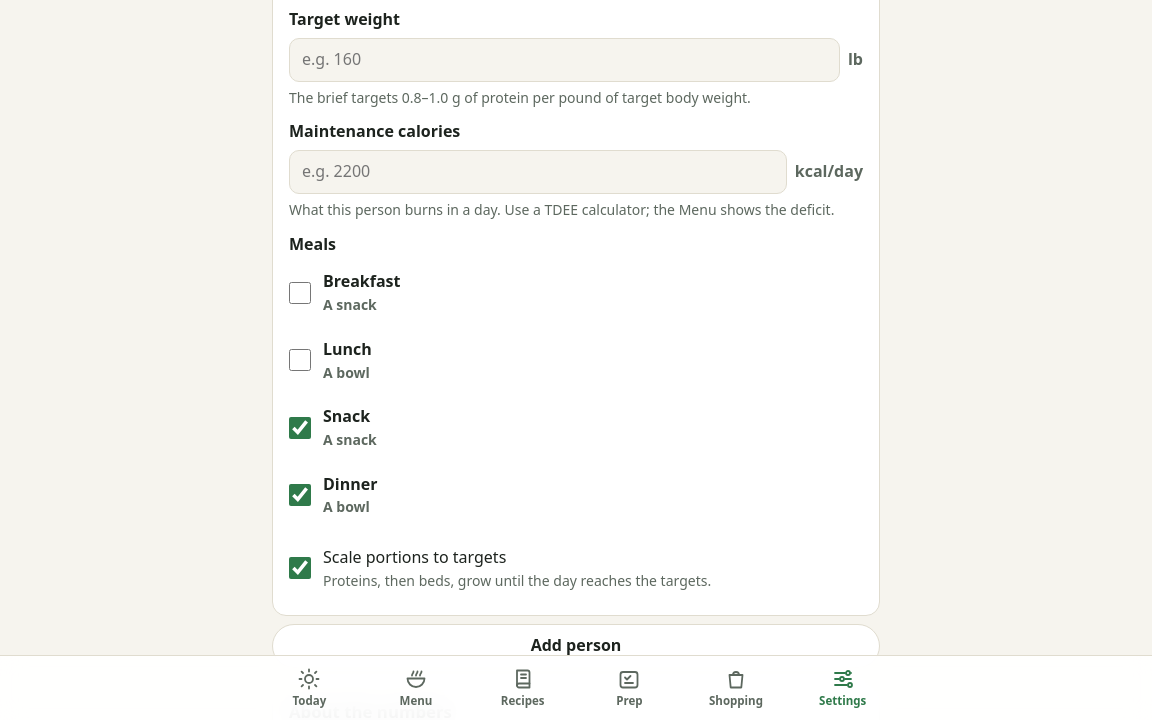
it: Settings › chooses which meals you eat, keeping at least one
This screenshot has width=1152, height=720.
(page scrolled)
Click the checkbox labelled "Lunch A bowl": [300, 360] box [289,349,311,371]
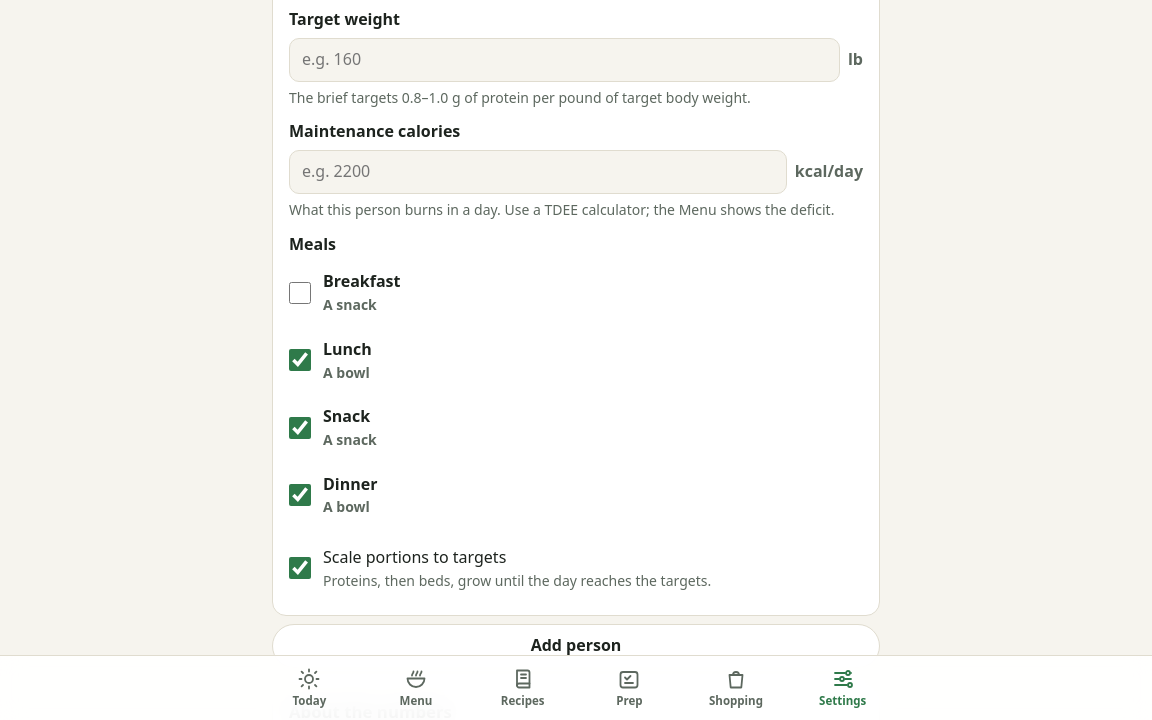
Click the checkbox labelled "Snack A snack": [300, 428] box [289,417,311,439]
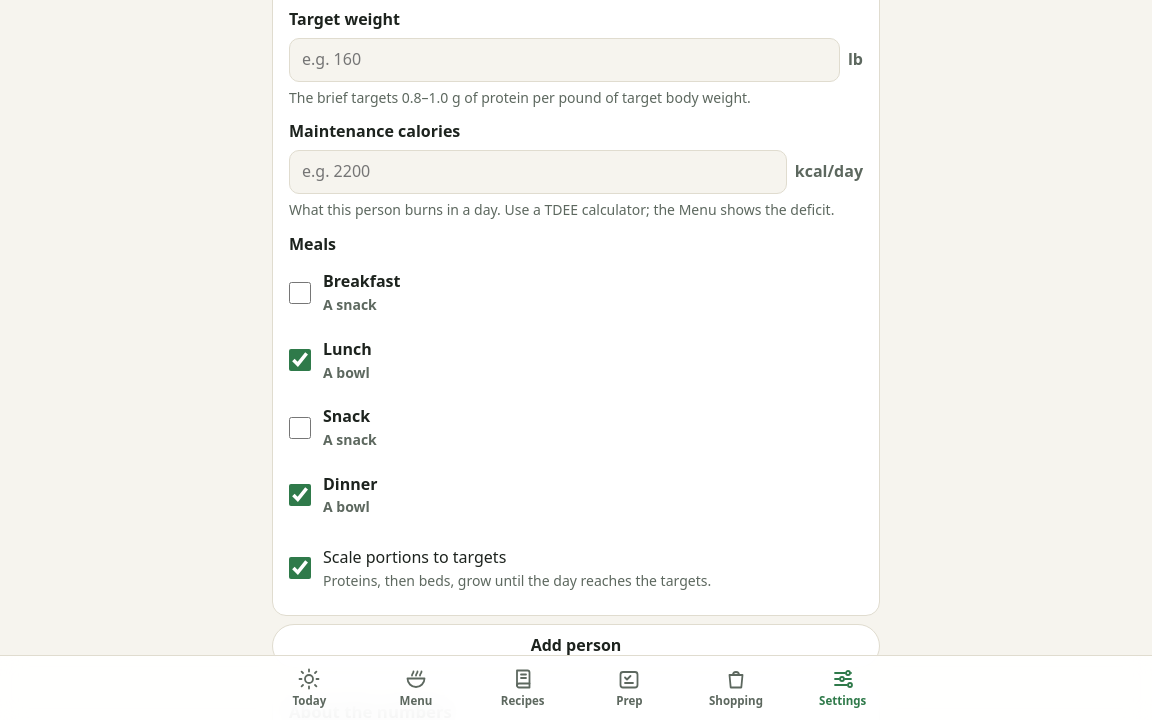
Click the checkbox labelled "Lunch A bowl": [300, 360] box [289,349,311,371]
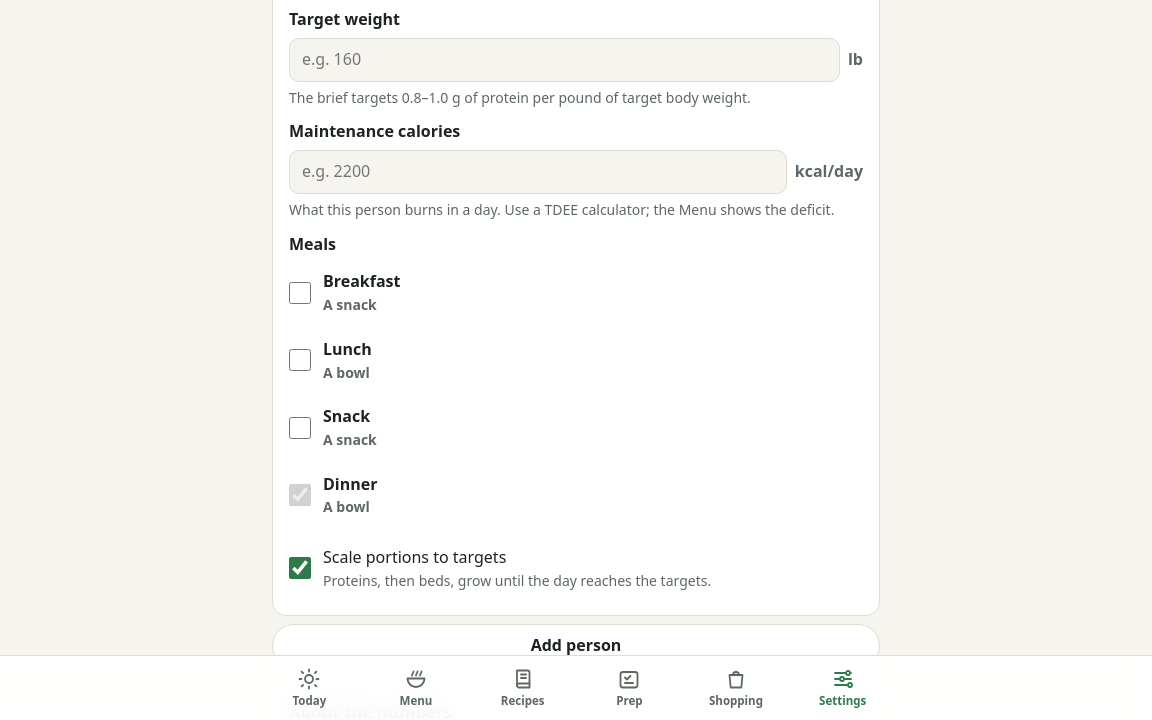
Now the checkbox labelled "Dinner A bowl" is disabled, box [289,484,311,506]
